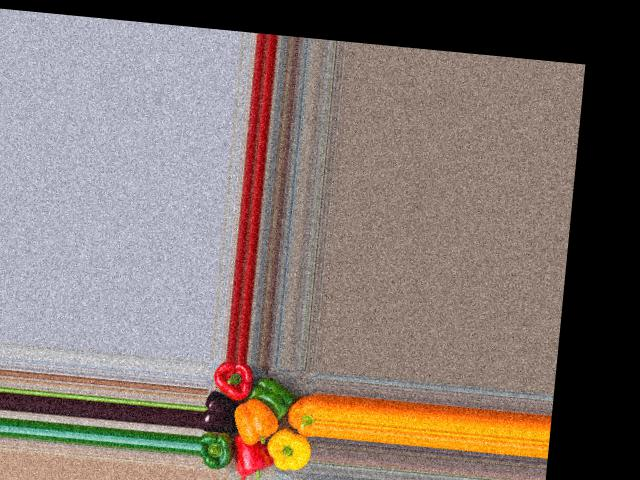bell_pepper: (277, 380, 318, 436)
